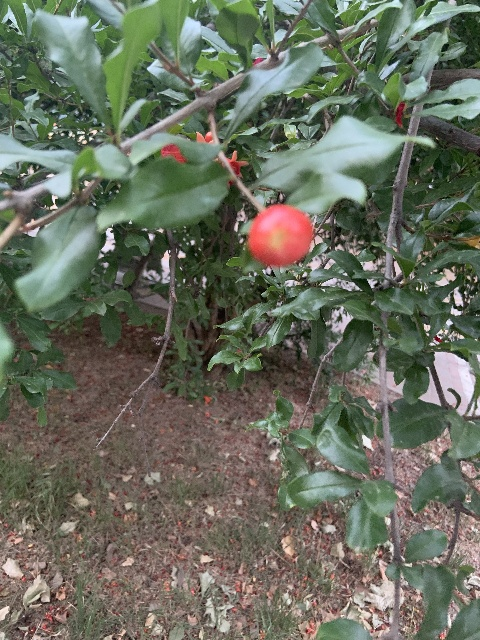bud: (247, 204, 313, 268), (205, 132, 213, 142)
flower: (214, 150, 248, 188), (203, 395, 211, 403)
